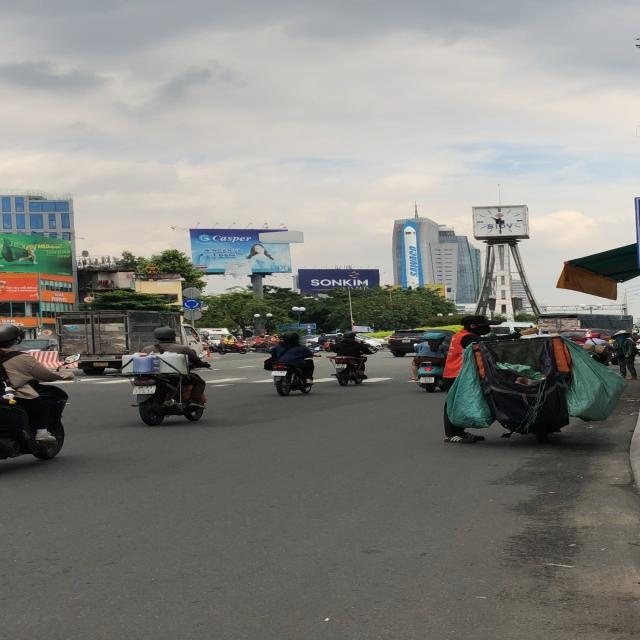Bien bao noi giao nhau chay theo vong xuyen: (183, 298, 204, 310)
